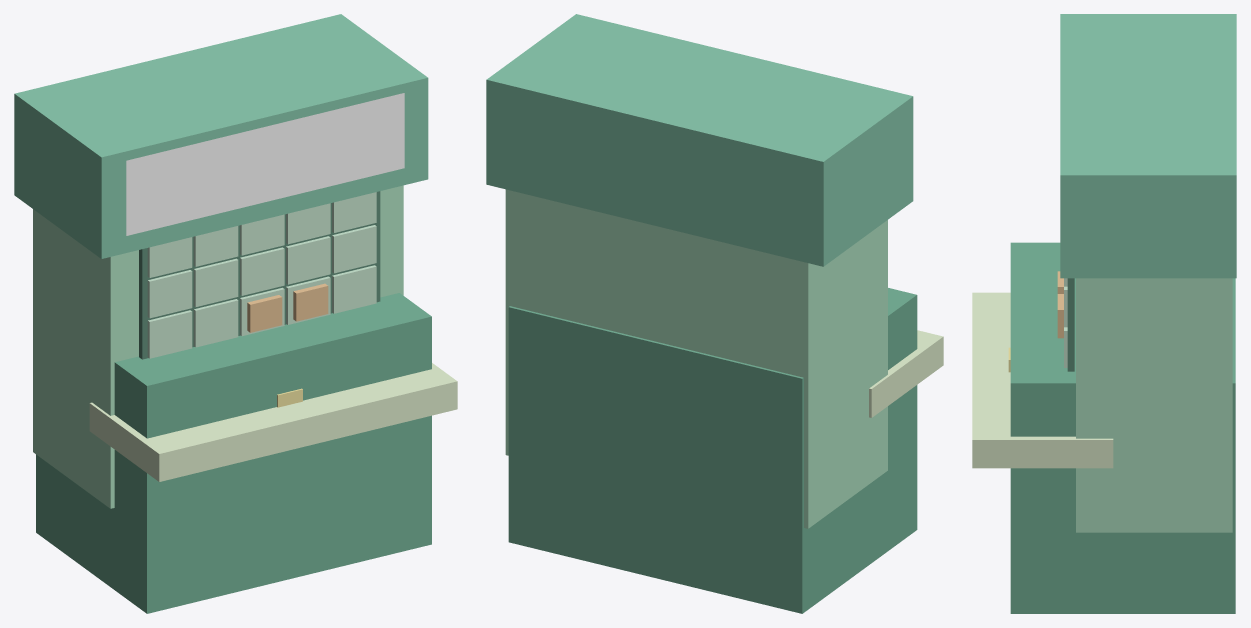
Rendered from neon-snake-cabinet.glb.
3 views of the same model, side by side, from view 1: azimuth 30°, elevation 25°; view 2: azimuth 150°, elevation 25°; view 3: azimuth 270°, elevation 25° (orthographic). The views are drawn at different scales.
Parts seen in each view (by area): view 1: Cabinet base, Top frame, Mint body, Screen cell (×15), Sign_neonSnake, Control deck, Grid screen, Snake trail (×2); view 2: Cabinet base, Top frame, Mint body, Control deck; view 3: Top frame, Mint body, Cabinet base, Control deck, Grid screen.
Boxes of the visible parts, <box> form: Cabinet base: <box>36,293,431,613</box>; Top frame: <box>14,14,428,258</box>; Mint body: <box>33,185,403,508</box>; Screen cell (×15): <box>147,192,376,358</box>; Sign_neonSnake: <box>126,93,404,235</box>; Control deck: <box>89,363,457,481</box>; Grid screen: <box>139,191,380,359</box>; Snake trail (×2): <box>247,283,328,332</box>; Cabinet base: <box>508,288,917,613</box>; Top frame: <box>486,14,913,266</box>; Mint body: <box>505,189,887,528</box>; Control deck: <box>869,330,943,417</box>; Top frame: <box>1060,14,1236,278</box>; Mint body: <box>1076,278,1232,532</box>; Cabinet base: <box>1010,242,1235,613</box>; Control deck: <box>972,292,1113,468</box>; Grid screen: <box>1067,278,1074,371</box>.
Bounding box in the file's own units: 1.95 × 2.53 × 1.35.
